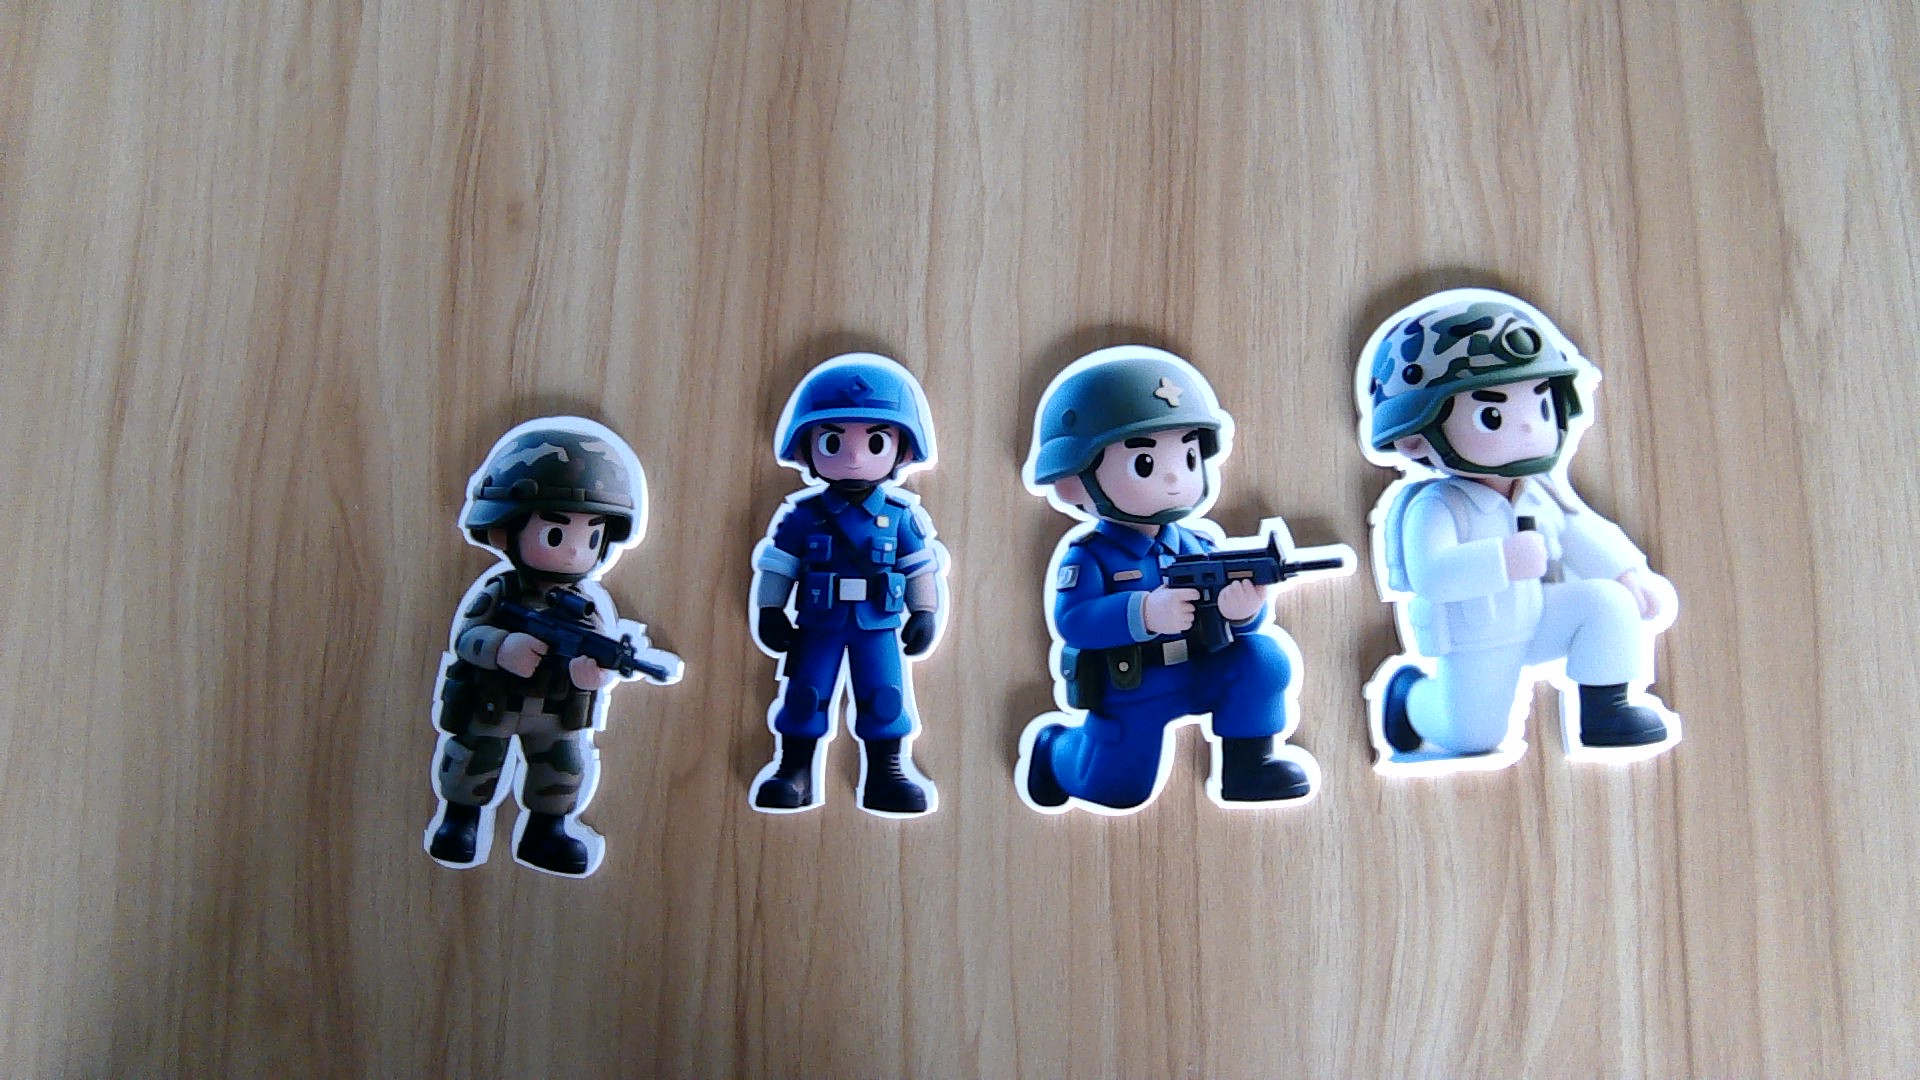人质: (1361, 477, 1691, 777)
友军: (425, 564, 683, 885)
敌人2: (1007, 531, 1349, 816), (737, 480, 949, 825)
